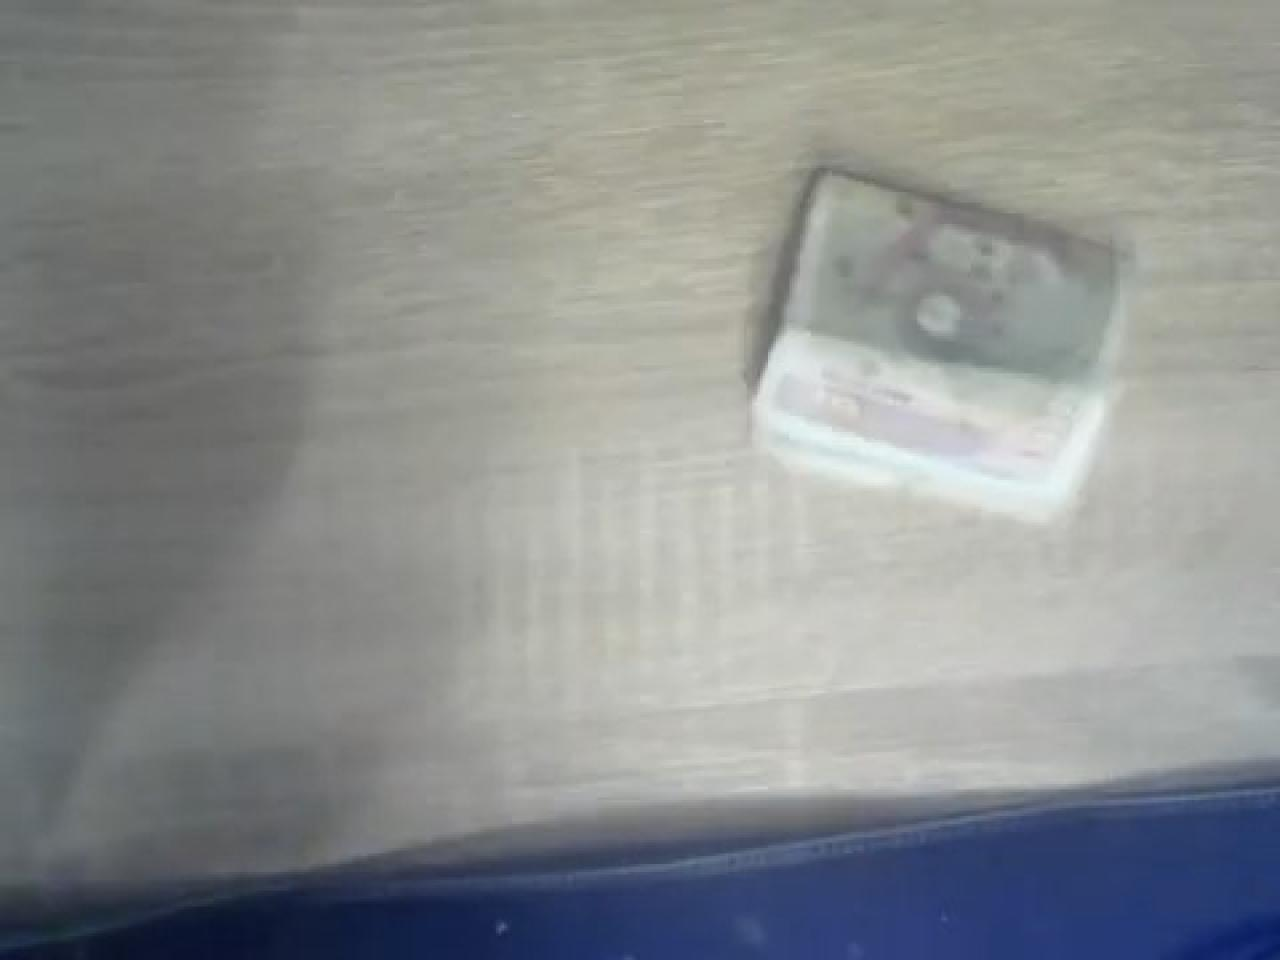10leva: (744, 168, 1131, 528)
